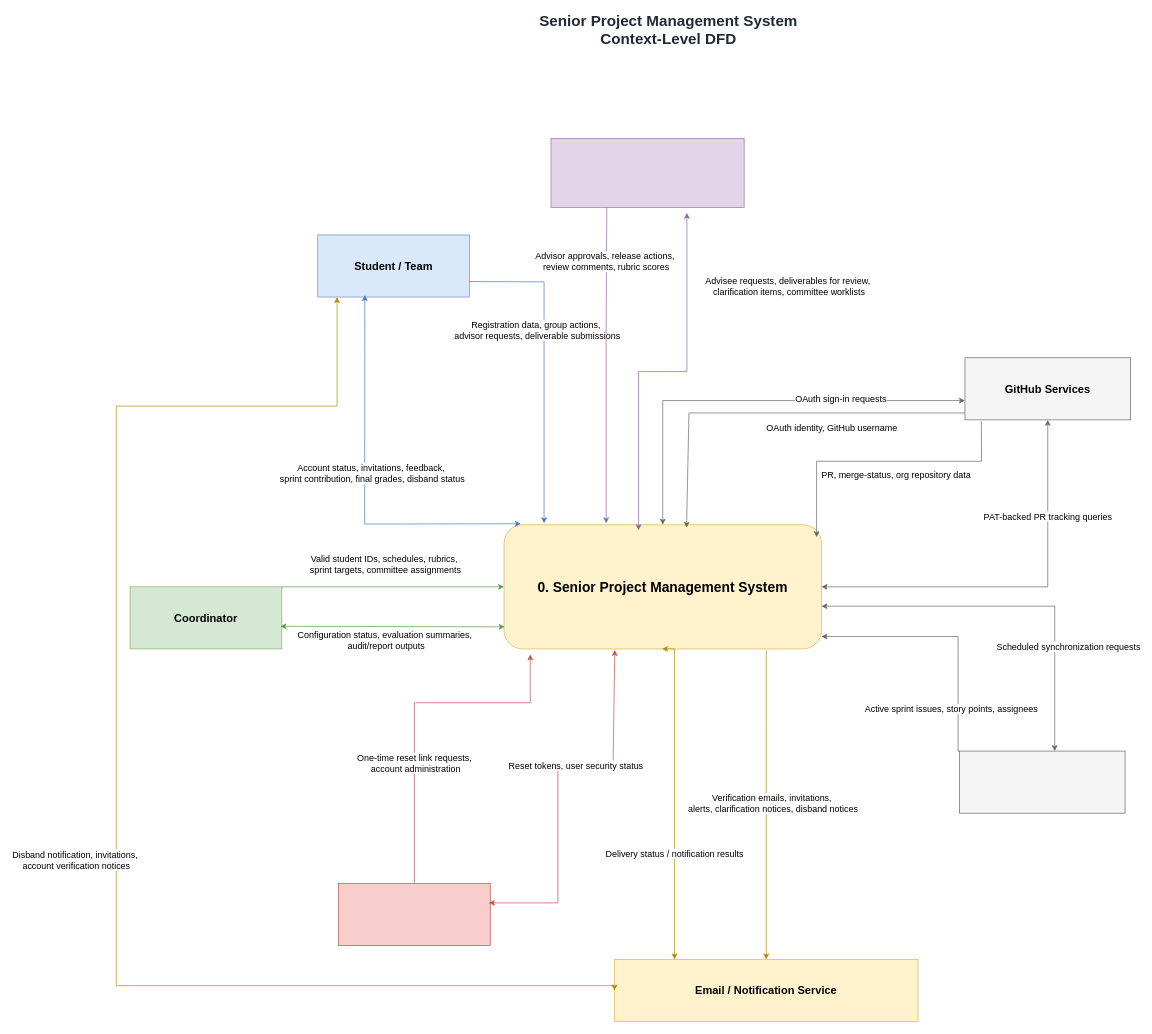
The diagram is 1152 pixels wide and 1034 high, and some of its shapes have lost their labels. Each missing label, with the box of its shape:
Admin: (338, 883, 490, 946)
JIRA API: (959, 750, 1125, 813)
Professor: (550, 138, 744, 207)
